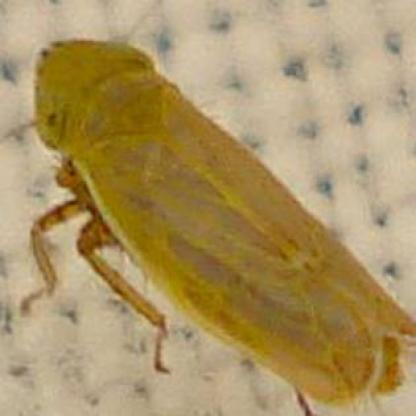green-leafhopper: (34, 47, 396, 402)
